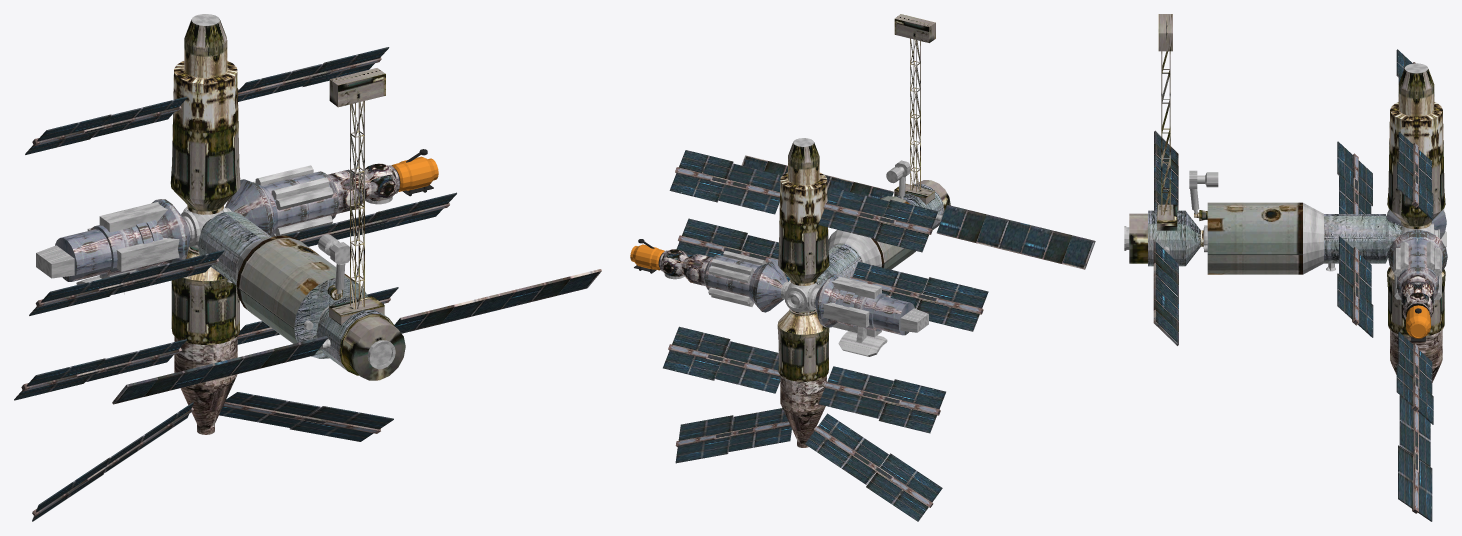
The model's file is mir.obj.
The picture shows the model from 3 angles, left to right: view 1: azimuth 30°, elevation 25°; view 2: azimuth 150°, elevation 25°; view 3: azimuth 270°, elevation 25°; orthographic projection. The views are drawn at different scales.
Visible parts, largest first — view 1: group4, group5, group1, group2, group0, group3, group7, group9, group6, group10; view 2: group4, group5, group1, group3, group7, group9, group0, group6, group2, group10; view 3: group4, group5, group2, group0, group1, group7, group6, group9, group10, group3.
Boxes of the visible parts, left/top/right/bottom form: group4: left=14, top=47, right=601, bottom=521; group5: left=170, top=19, right=405, bottom=380; group1: left=36, top=14, right=395, bottom=369; group2: left=236, top=235, right=349, bottom=343; group0: left=198, top=211, right=387, bottom=370; group3: left=55, top=199, right=190, bottom=281; group7: left=225, top=171, right=339, bottom=236; group9: left=174, top=336, right=237, bottom=434; group6: left=327, top=163, right=399, bottom=213; group10: left=391, top=156, right=438, bottom=191; group4: left=663, top=150, right=1095, bottom=521; group5: left=777, top=14, right=950, bottom=381; group1: left=664, top=138, right=942, bottom=356; group3: left=815, top=274, right=914, bottom=335; group7: left=704, top=255, right=788, bottom=312; group9: left=780, top=375, right=826, bottom=447; group0: left=816, top=183, right=944, bottom=286; group6: left=659, top=249, right=712, bottom=286; group2: left=871, top=196, right=915, bottom=269; group10: left=630, top=244, right=664, bottom=270; group4: left=1153, top=49, right=1433, bottom=521; group5: left=1129, top=14, right=1445, bottom=336; group2: left=1207, top=202, right=1302, bottom=274; group0: left=1148, top=210, right=1402, bottom=266; group1: left=1124, top=63, right=1446, bottom=304; group7: left=1388, top=229, right=1447, bottom=297; group6: left=1401, top=273, right=1434, bottom=319; group9: left=1390, top=329, right=1442, bottom=382; group10: left=1406, top=305, right=1430, bottom=338; group3: left=1387, top=209, right=1446, bottom=239.
Size of the model in its own units: 32.56 by 34.3 by 23.26.
Materials: 11 (9 with a texture image).
